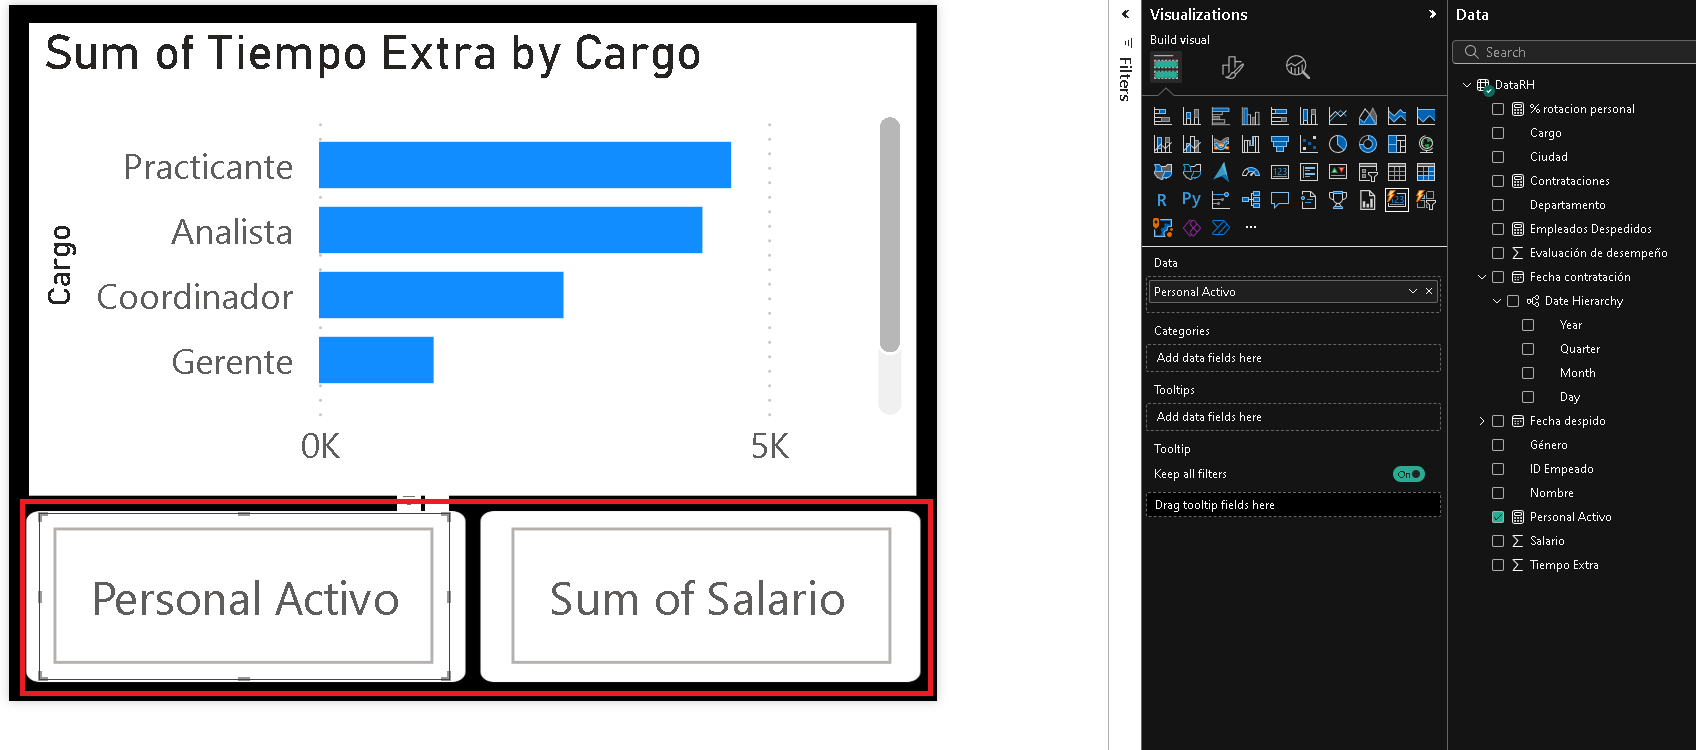

What the dashboard file says about the page in this screenshot:
{"tool":"powerbi","page":{"name":"tooltip","canvas":[320,240],"ordinal":1},"visuals":[{"type":"barChart","fields":{"Category":["DataRH.Cargo"],"Y":["Sum(DataRH.Tiempo Extra)"]},"box":[6.9,3.4,305.9,163.1],"z":0},{"type":"cardVisual","fields":{"Data":["Sum(DataRH.Salario)"]},"box":[156.9,166.6,163.1,66.2],"z":1000},{"type":"cardVisual","fields":{"Data":["DataRH.Personal Activo"]},"box":[10,166.6,143.4,66.2],"z":2000}]}

Visuals, with their boxes in screenshot pixels (x1, y1, x2, y2):
barChart - DataRH.Cargo x Sum(DataRH.Tiempo Extra): box=[3, 19, 913, 504]
cardVisual - Sum(DataRH.Salario): box=[449, 505, 935, 702]
cardVisual - DataRH.Personal Activo: box=[12, 505, 439, 702]
